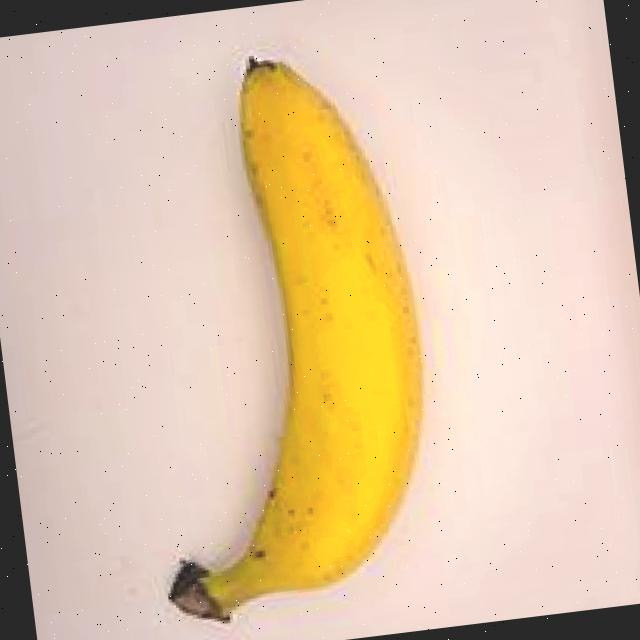Ripe: (74, 19, 472, 640)
